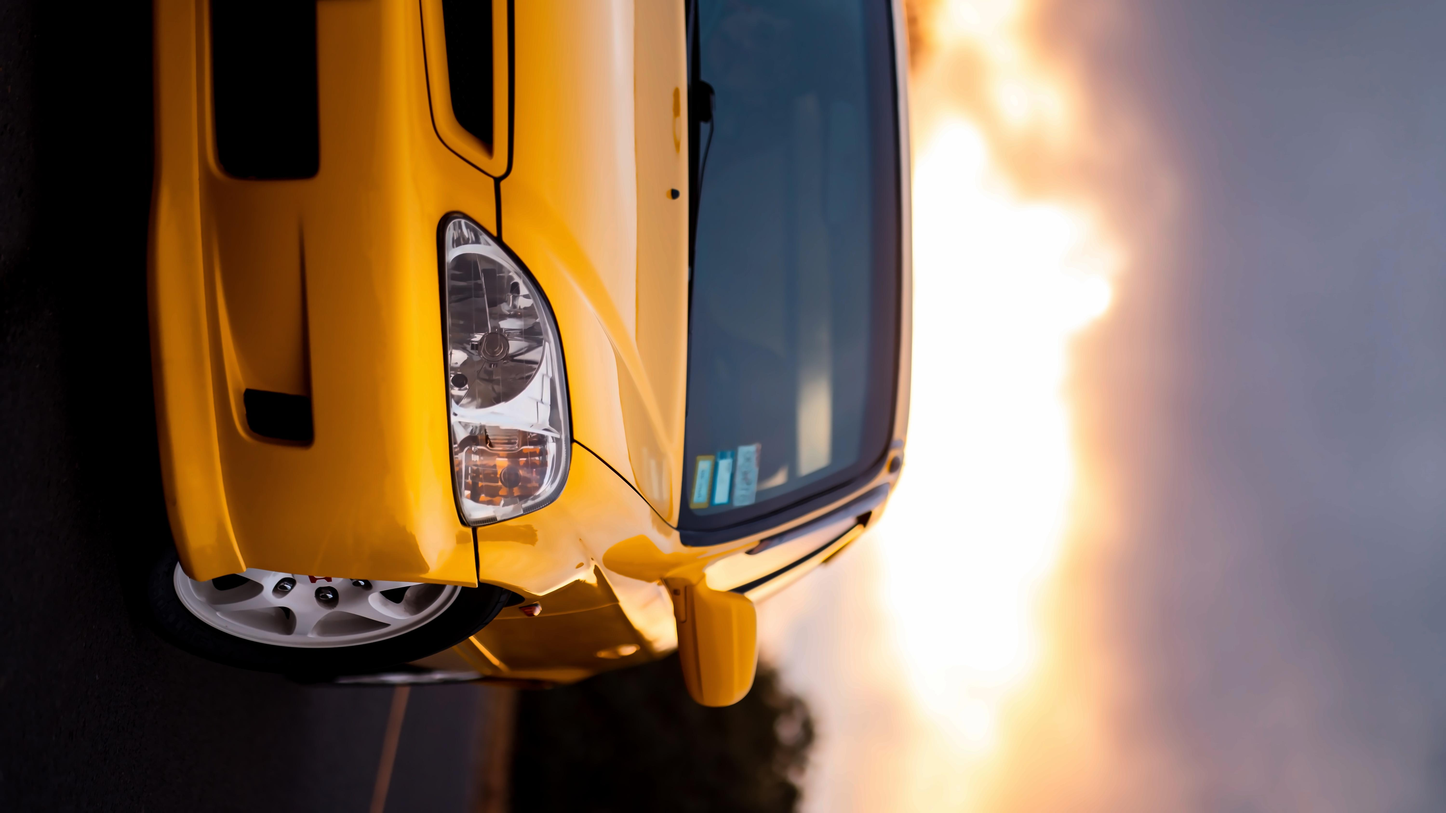Car hood: (498, 0, 704, 562)
Fender - -F-L-: (465, 432, 685, 639)
Front bumper: (139, 0, 514, 619)
Headlight - -L-: (422, 195, 590, 539)
Side mirror - -L-: (650, 556, 786, 749)
